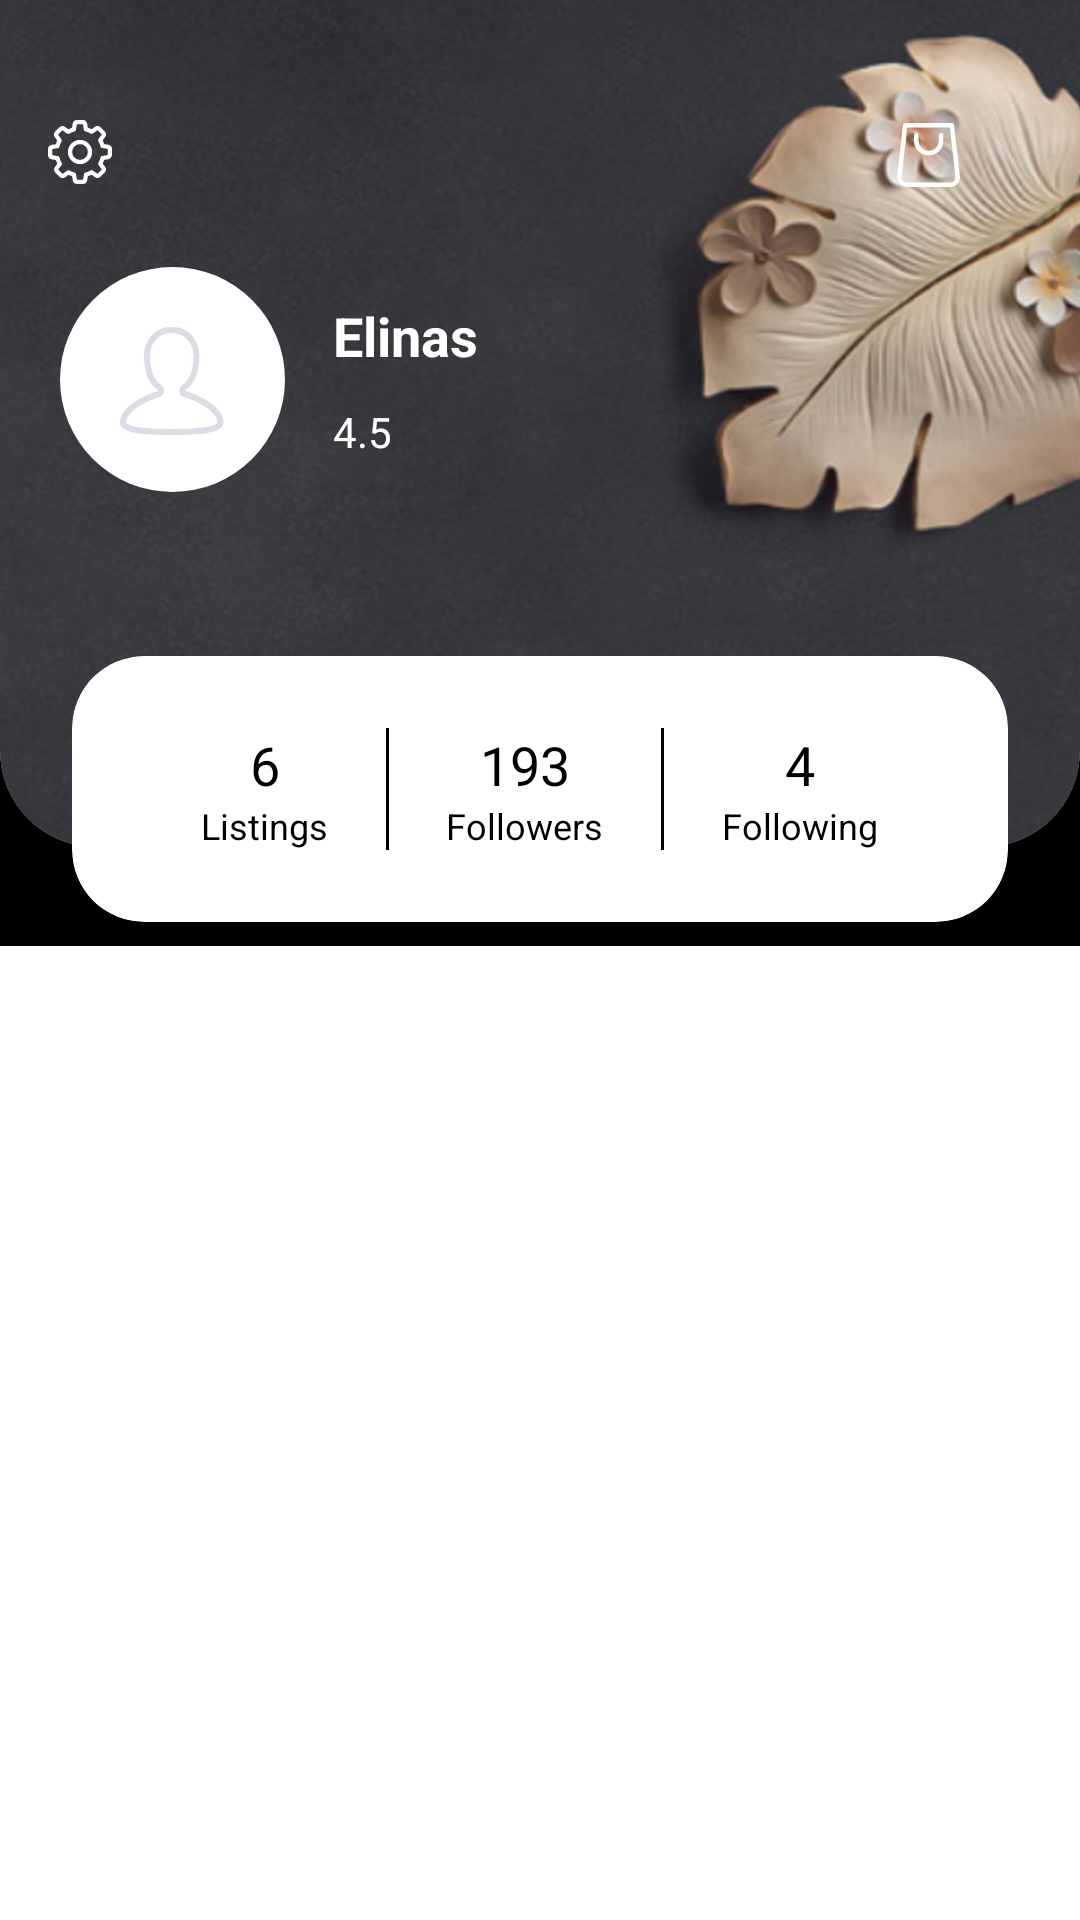

Where to tap for icons on this 1080px x 1920px app screen, as (x=x, y=y):
acc circle: (x=172, y=379)
setting: (x=80, y=152)
